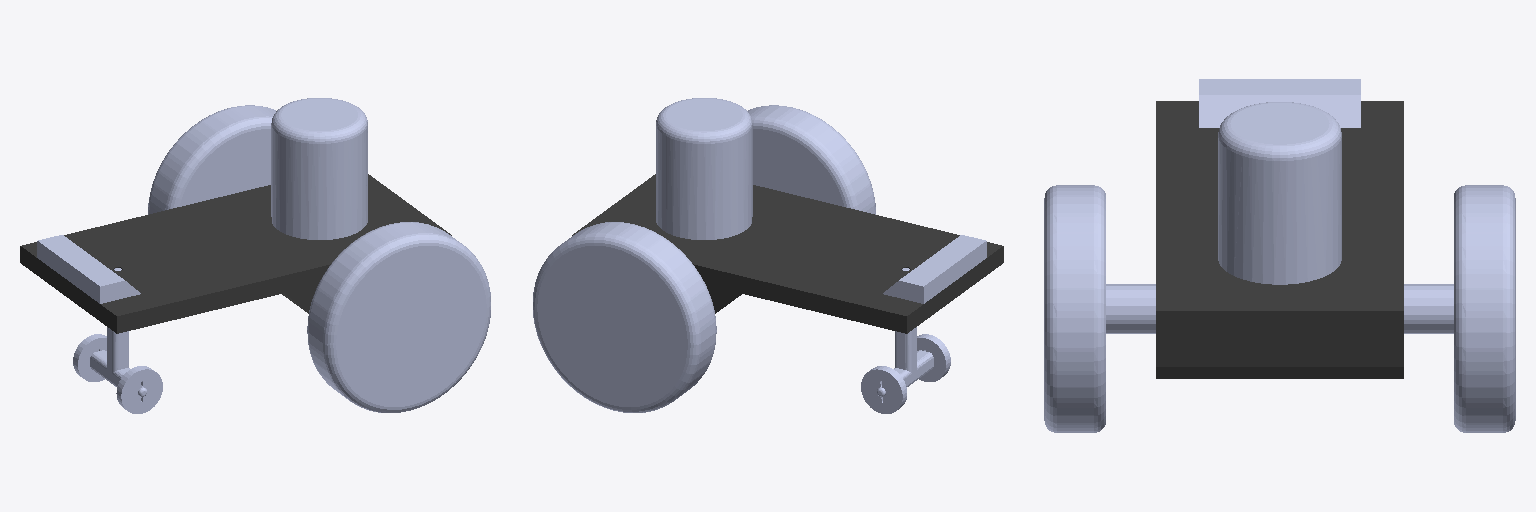
The robot description file, URDF, robot "tricycle_test_bot_1":
<?xml version="1.0" encoding="utf-8"?>
<!-- This URDF was automatically created by SolidWorks to URDF Exporter! Originally created by [author] ([email redacted]) 
     Commit Version: 1.6.0-4-g7f85cfe  Build Version: 1.6.7995.38578
     For more information, please see http://wiki.ros.org/sw_urdf_exporter -->
<robot
  name="tricycle_test_bot_1">
  <link
    name="base_link">
    <inertial>
      <origin
        xyz="0.085108 0.04532 0.014014"
        rpy="0 0 0" />
      <mass
        value="0.40963" />
      <inertia
        ixx="0.0003515"
        ixy="-8.4586E-20"
        ixz="3.6545E-06"
        iyy="0.00081474"
        iyz="2.749E-20"
        izz="0.0011414" />
    </inertial>
    <visual>
      <origin
        xyz="0 0 0"
        rpy="0 0 0" />
      <geometry>
        <mesh
          filename="package://tricycle_test_bot_1/meshes/base_link.STL" />
      </geometry>
      <material
        name="">
        <color
          rgba="0.29804 0.29804 0.29804 1" />
      </material>
    </visual>
    <collision>
      <origin
        xyz="0 0 0"
        rpy="0 0 0" />
      <geometry>
        <mesh
          filename="package://tricycle_test_bot_1/meshes/base_link.STL" />
      </geometry>
    </collision>
  </link>
  <link
    name="left_wheel">
    <inertial>
      <origin
        xyz="0 -8.6736E-19 -0.013639"
        rpy="0 0 0" />
      <mass
        value="0.20129" />
      <inertia
        ixx="0.00013593"
        ixy="5.5699E-37"
        ixz="3.5267E-22"
        iyy="0.00013593"
        iyz="-2.9387E-36"
        izz="0.00023789" />
    </inertial>
    <visual>
      <origin
        xyz="0 0 0"
        rpy="0 0 0" />
      <geometry>
        <mesh
          filename="package://tricycle_test_bot_1/meshes/left_wheel.STL" />
      </geometry>
      <material
        name="">
        <color
          rgba="0.79216 0.81961 0.93333 1" />
      </material>
    </visual>
    <collision>
      <origin
        xyz="0 0 0"
        rpy="0 0 0" />
      <geometry>
        <mesh
          filename="package://tricycle_test_bot_1/meshes/left_wheel.STL" />
      </geometry>
    </collision>
  </link>

  <joint
    name="left_wheel_joint"
    type="continuous">
    <origin
      xyz="0.10685 0.14032 0.0050484"
      rpy="1.5708 0 3.1416" />
    <parent
      link="base_link" />
    <child
      link="left_wheel" />
    <axis
      xyz="0 0 1" />
  </joint>

  <link
    name="right_wheel">
    <inertial>
      <origin
        xyz="0 9.2808E-17 -0.013639"
        rpy="0 0 0" />
      <mass
        value="0.20129" />
      <inertia
        ixx="0.00013593"
        ixy="-3.3809E-36"
        ixz="-3.5267E-22"
        iyy="0.00013593"
        iyz="-7.4012E-19"
        izz="0.00023789" />
    </inertial>
    <visual>
      <origin
        xyz="0 0 0"
        rpy="0 0 0" />
      <geometry>
        <mesh
          filename="package://tricycle_test_bot_1/meshes/right_wheel.STL" />
      </geometry>
      <material
        name="">
        <color
          rgba="0.79216 0.81961 0.93333 1" />
      </material>
    </visual>
    <collision>
      <origin
        xyz="0 0 0"
        rpy="0 0 0" />
      <geometry>
        <mesh
          filename="package://tricycle_test_bot_1/meshes/right_wheel.STL" />
      </geometry>
    </collision>
  </link>

  <joint
    name="right_wheel_joint"
    type="continuous">
    <origin
      xyz="0.10685 -0.04968 0.0050484"
      rpy="1.5708 0 0" />
    <parent
      link="base_link" />
    <child
      link="right_wheel" />
    <axis
      xyz="0 0 -1" />
    <limit
      lower="0"
      upper="0"
      effort="0"
      velocity="0" />
  </joint>

  <link
    name="front_fork">
    <inertial>
      <origin
        xyz="4.5276E-16 0 -0.043749"
        rpy="0 0 0" />
      <mass
        value="0.0078654" />
      <inertia
        ixx="2.9217E-06"
        ixy="-1.8142E-12"
        ixz="2.4792E-20"
        iyy="2.5373E-06"
        iyz="2.7066E-22"
        izz="5.08E-07" />
    </inertial>
    <visual>
      <origin
        xyz="0 0 0"
        rpy="0 0 0" />
      <geometry>
        <mesh
          filename="package://tricycle_test_bot_1/meshes/front_fork.STL" />
      </geometry>
      <material
        name="">
        <color
          rgba="0.79216 0.81961 0.93333 1" />
      </material>
    </visual>
    <collision>
      <origin
        xyz="0 0 0"
        rpy="0 0 0" />
      <geometry>
        <mesh
          filename="package://tricycle_test_bot_1/meshes/front_fork.STL" />
      </geometry>
    </collision>
  </link>

  <joint name="front_fork_joint" type="revolute">
    <origin xyz="-0.013684 0.04532 0.027548" rpy="0 0 0"/>
    <parent link="base_link"/>
    <child link="front_fork"/>
    <axis xyz="0 0 1"/>
    <limit lower="-0.88" upper="0.88" effort="5" velocity="1.0"/>
  </joint>
  <!-- Transmission for front fork joint -->
  <transmission name="tran1">
    <type>transmission_interface/SimpleTransmission</type>
    <joint name="front_fork_joint">
      <hardwareInterface>hardware_interface/PositionJointInterface</hardwareInterface>
    </joint>
    <actuator name="motor1">
      <mechanicalReduction>1.0</mechanicalReduction>
      <hardwareInterface>hardware_interface/EffortJointInterface</hardwareInterface>
    </actuator>
  </transmission>

  <!-- Gazebo plugin for ros_control -->
  <gazebo>
    <plugin name="gazebo_ros_control" filename="libgazebo_ros_control.so">
      <robotNamespace>tricycle_test_bot_1</robotNamespace>
    </plugin>
  </gazebo>

  <link
    name="left_front_wheel">
    <inertial>
      <origin
        xyz="0 0 -0.003013"
        rpy="0 0 0" />
      <mass
        value="0.0026558" />
      <inertia
        ixx="1.1308E-07"
        ixy="-4.1731E-11"
        ixz="7.2155E-24"
        iyy="1.1364E-07"
        iyz="1.1915E-23"
        izz="1.9188E-07" />
    </inertial>
    <visual>
      <origin
        xyz="0 0 0"
        rpy="0 0 0" />
      <geometry>
        <mesh
          filename="package://tricycle_test_bot_1/meshes/left_front_wheel.STL" />
      </geometry>
      <material
        name="">
        <color
          rgba="0.79216 0.81961 0.93333 1" />
      </material>
    </visual>
    <collision>
      <origin
        xyz="0 0 0"
        rpy="0 0 0" />
      <geometry>
        <mesh
          filename="package://tricycle_test_bot_1/meshes/left_front_wheel.STL" />
      </geometry>
    </collision>
  </link>

  <joint
    name="left_front_joint"
    type="continuous">
    <origin
      xyz="0 0.025 -0.0599999999999998"
      rpy="1.5707963267949 0 3.14159265358979" />
    <parent
      link="front_fork" />
    <child
      link="left_front_wheel" />
    <axis
      xyz="0 0 -1" />
  </joint>

  <link
    name="right_front_wheel">
    <inertial>
      <origin
        xyz="0 0 -0.003013"
        rpy="0 0 0" />
      <mass
        value="0.0026558" />
      <inertia
        ixx="1.1307E-07"
        ixy="1.8637E-24"
        ixz="-1.1093E-23"
        iyy="1.1364E-07"
        iyz="4.6654E-25"
        izz="1.9188E-07" />
    </inertial>
    <visual>
      <origin
        xyz="0 0 0"
        rpy="0 0 0" />
      <geometry>
        <mesh
          filename="package://tricycle_test_bot_1/meshes/right_front_wheel.STL" />
      </geometry>
      <material
        name="">
        <color
          rgba="0.79216 0.81961 0.93333 1" />
      </material>
    </visual>
    <collision>
      <origin
        xyz="0 0 0"
        rpy="0 0 0" />
      <geometry>
        <mesh
          filename="package://tricycle_test_bot_1/meshes/right_front_wheel.STL" />
      </geometry>
    </collision>
  </link>

  <joint
    name="right_front_joint"
    type="continuous">
    <origin
      xyz="0 -0.025 -0.0599999999999998"
      rpy="1.5707963267949 0 0" />
    <parent
      link="front_fork" />
    <child
      link="right_front_wheel" />
    <axis
      xyz="0 0 1" />
  </joint>

<!-- lidar -->

  <link
    name="lidar">
    <inertial>
      <origin
        xyz="0 0 -0.030199"
        rpy="0 0 0" />
      <mass
        value="0.117" />
      <inertia
        ixx="5.2844E-05"
        ixy="0"
        ixz="2.6263E-37"
        iyy="5.2844E-05"
        iyz="9.6476E-22"
        izz="3.6354E-05" />
    </inertial>
    <visual>
      <origin
        xyz="0 0 0"
        rpy="0 0 0" />
      <geometry>
        <mesh
          filename="package://tricycle_test_bot_1/meshes/lidar.STL" />
      </geometry>
      <material
        name="">
        <color
          rgba="0.79216 0.81961 0.93333 1" />
      </material>
    </visual>
    <collision>
      <origin
        xyz="0 0 0"
        rpy="0 0 0" />
      <geometry>
        <mesh
          filename="package://tricycle_test_bot_1/meshes/lidar.STL" />
      </geometry>
    </collision>
  </link>

  <joint
    name="lidar_joint"
    type="fixed">
    <origin
      xyz="0.10685 0.04532 0.087548"
      rpy="0 0 -3.1416" />
    <parent
      link="base_link" />
    <child
      link="lidar" />
    <axis
      xyz="0 0 0" />
  </joint>

  <gazebo reference="lidar">
    <material>Gazebo/FlatBlack</material>
    <sensor type="ray" name="lds_lfcd_sensor">
      <pose>0 0 0 0 0 0</pose>
      <visualize>true</visualize>
      <update_rate>5</update_rate>
      <ray>
        <scan>
          <horizontal>
            <samples>760</samples>
            <resolution>1</resolution>
            <min_angle>0.0</min_angle>
            <max_angle>6.28319</max_angle>
          </horizontal>
        </scan>
        <range>
          <min>0.120</min>
          <max>3.5</max>
          <resolution>0.015</resolution>
        </range>
        <noise>
          <type>gaussian</type>
          <mean>0.0</mean>
          <stddev>0.01</stddev>
        </noise>
      </ray>
      <plugin name="gazebo_ros_lds_lfcd_controller" filename="libgazebo_ros_laser.so">
        <topicName>scan</topicName>
        <frameName>lidar</frameName>
      </plugin>
    </sensor>
  </gazebo>

<!-- camera -->

  <link
    name="camera">
    <inertial>
      <origin
        xyz="-0.0027083 -6.9389E-18 -0.0054167"
        rpy="0 0 0" />
      <mass
        value="0.013" />
      <inertia
        ixx="4.6832E-06"
        ixy="8.2621E-22"
        ixz="-5.3038E-08"
        iyy="5.9301E-07"
        iyz="1.7451E-22"
        izz="5.064E-06" />
    </inertial>
    <visual>
      <origin
        xyz="0 0 0"
        rpy="0 0 0" />
      <geometry>
        <mesh
          filename="package://tricycle_test_bot_1/meshes/camera.STL" />
      </geometry>
      <material
        name="">
        <color
          rgba="0.79216 0.81961 0.93333 1" />
      </material>
    </visual>
    <collision>
      <origin
        xyz="0 0 0"
        rpy="0 0 0" />
      <geometry>
        <mesh
          filename="package://tricycle_test_bot_1/meshes/camera.STL" />
      </geometry>
    </collision>
  </link>

  <joint
    name="camera_joint"
    type="fixed">
    <origin
      xyz="-0.0356462748104309 0.0453199556488357 0.0375483551940897"
      rpy="0 0 -3.14159265358979" />
    <parent
      link="base_link" />
    <child
      link="camera" />
    <axis
      xyz="0 0 1" />
  </joint>

<gazebo>
  <plugin name="differential_drive_controller" filename="libgazebo_ros_diff_drive.so">

    <updateRate>10</updateRate>

    <leftJoint>left_front_joint</leftJoint>

    <rightJoint>right_front_joint</rightJoint>

    <wheelSeparation>0.5380</wheelSeparation>

    <wheelDiameter>0.2410</wheelDiameter>

    <wheelAcceleration>1.0</wheelAcceleration>

    <wheelTorque>20</wheelTorque>

    <commandTopic>/cmd_vel</commandTopic>

    <odometryTopic>odom</odometryTopic>

    <odometryFrame>odom</odometryFrame>

    <robotBaseFrame>base_link</robotBaseFrame>

    <odometrySource>1</odometrySource>

    <publishWheelTF>false</publishWheelTF>

    <publishOdom>true</publishOdom>

    <publishWheelJointState>false</publishWheelJointState>

    <legacyMode>false</legacyMode>
  </plugin>
</gazebo>

</robot>

--- Facts derived from the render (not from the file) ---
The picture shows the robot from 3 angles, left to right: view 1: azimuth 30°, elevation 25°; view 2: azimuth 150°, elevation 25°; view 3: azimuth 270°, elevation 25°; orthographic projection.
Robot: tricycle_test_bot_1 — 8 links, 7 joints (1 revolute, 4 continuous, 2 fixed); root link base_link; default pose: every joint at zero.
Links seen in each view (by area): view 1: right_wheel, base_link, lidar, left_wheel, camera, right_front_wheel, front_fork, left_front_wheel; view 2: left_wheel, base_link, lidar, right_wheel, camera, left_front_wheel, front_fork, right_front_wheel; view 3: base_link, lidar, left_wheel, right_wheel, camera.
Link boxes in pixels (x1,y1,x2,y2): right_wheel: (307,222,490,412); base_link: (20,174,451,333); lidar: (271,98,367,239); left_wheel: (148,105,275,214); camera: (37,235,140,303); right_front_wheel: (116,366,162,413); front_fork: (90,268,129,386); left_front_wheel: (73,334,106,381); left_wheel: (533,222,716,412); base_link: (572,174,1003,333); lidar: (656,98,752,239); right_wheel: (748,105,875,214); camera: (883,235,986,303); left_front_wheel: (861,366,906,413); front_fork: (894,268,933,386); right_front_wheel: (917,334,950,381); base_link: (1156,101,1403,378); lidar: (1218,102,1341,284); left_wheel: (1404,185,1515,432); right_wheel: (1044,185,1155,432); camera: (1199,79,1360,127).
Size in the robot's own frame: 0.2 by 0.19 by 0.1325 metres.
8 mesh visuals loaded from 8 distinct referenced files (8 binary STL).
